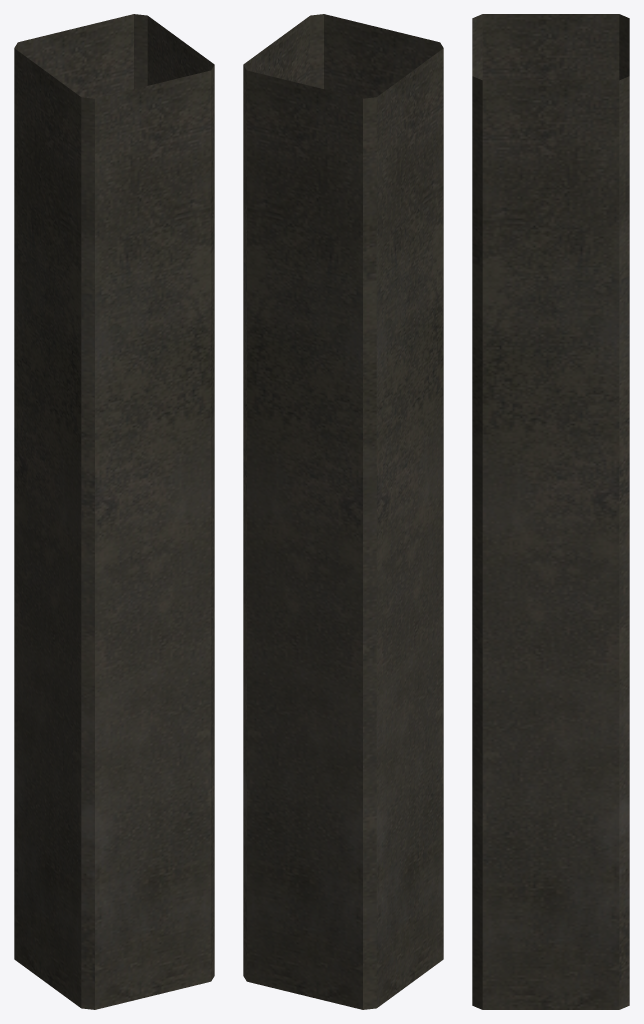
Rendered from pillar_1_plain.obj.
3 views of the same model, side by side, from view 1: azimuth 30°, elevation 25°; view 2: azimuth 150°, elevation 25°; view 3: azimuth 270°, elevation 25° (orthographic). The views are drawn at different scales.
Visible parts, largest first — view 1: pillar_1_plain; view 2: pillar_1_plain; view 3: pillar_1_plain.
Part boxes in pixels (bbox=[...]): pillar_1_plain: bbox=[14, 14, 214, 1009]; pillar_1_plain: bbox=[243, 14, 443, 1009]; pillar_1_plain: bbox=[472, 14, 629, 1009].
Bounding box in the file's own units: 0.46 × 3 × 0.46.
